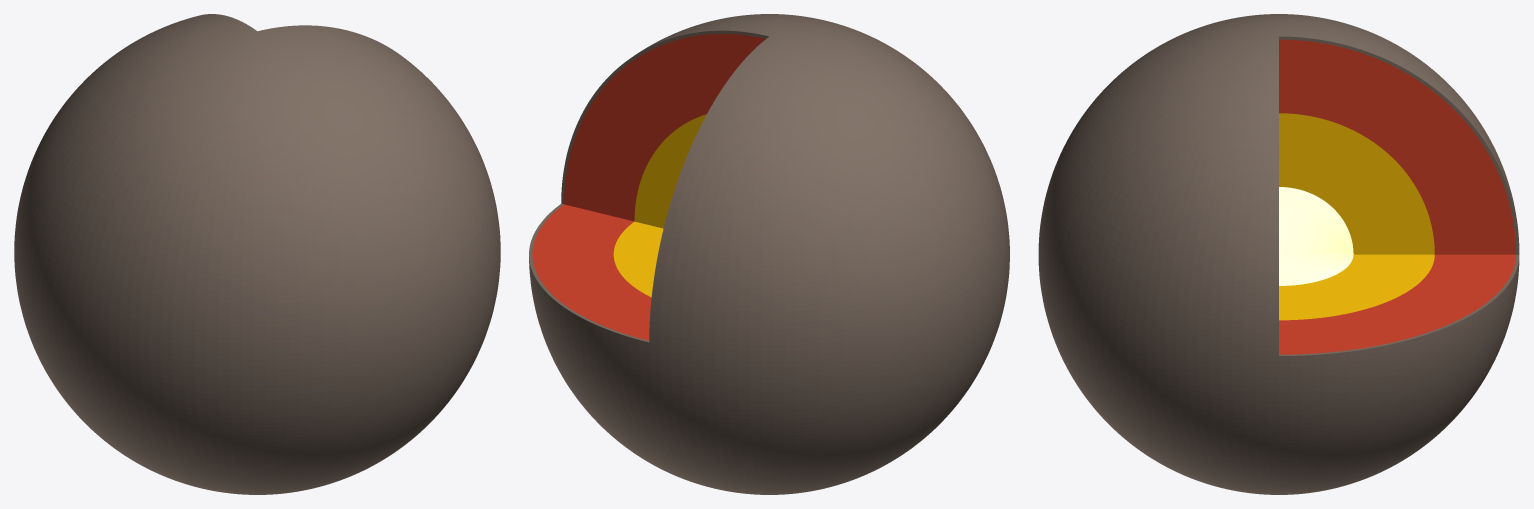
The model's file is scene-mqkn1nhj.glb.
3 views of the same model, side by side, from view 1: azimuth 30°, elevation 25°; view 2: azimuth 150°, elevation 25°; view 3: azimuth 270°, elevation 25° (orthographic).
Visible parts, largest first — view 1: Crust; view 2: Crust, Mantle, OuterCore; view 3: Crust, Mantle, OuterCore, InnerCore.
Boxes of the visible parts, x1=… form: Crust: x1=14, y1=14, x2=500, y2=494; Crust: x1=529, y1=14, x2=1009, y2=494; Mantle: x1=532, y1=34, x2=765, y2=340; OuterCore: x1=613, y1=114, x2=706, y2=297; Crust: x1=1038, y1=14, x2=1519, y2=494; Mantle: x1=1279, y1=39, x2=1515, y2=354; OuterCore: x1=1279, y1=113, x2=1434, y2=320; InnerCore: x1=1279, y1=187, x2=1353, y2=285.
Size of the model in its own units: 7.1 by 7.1 by 7.1.
